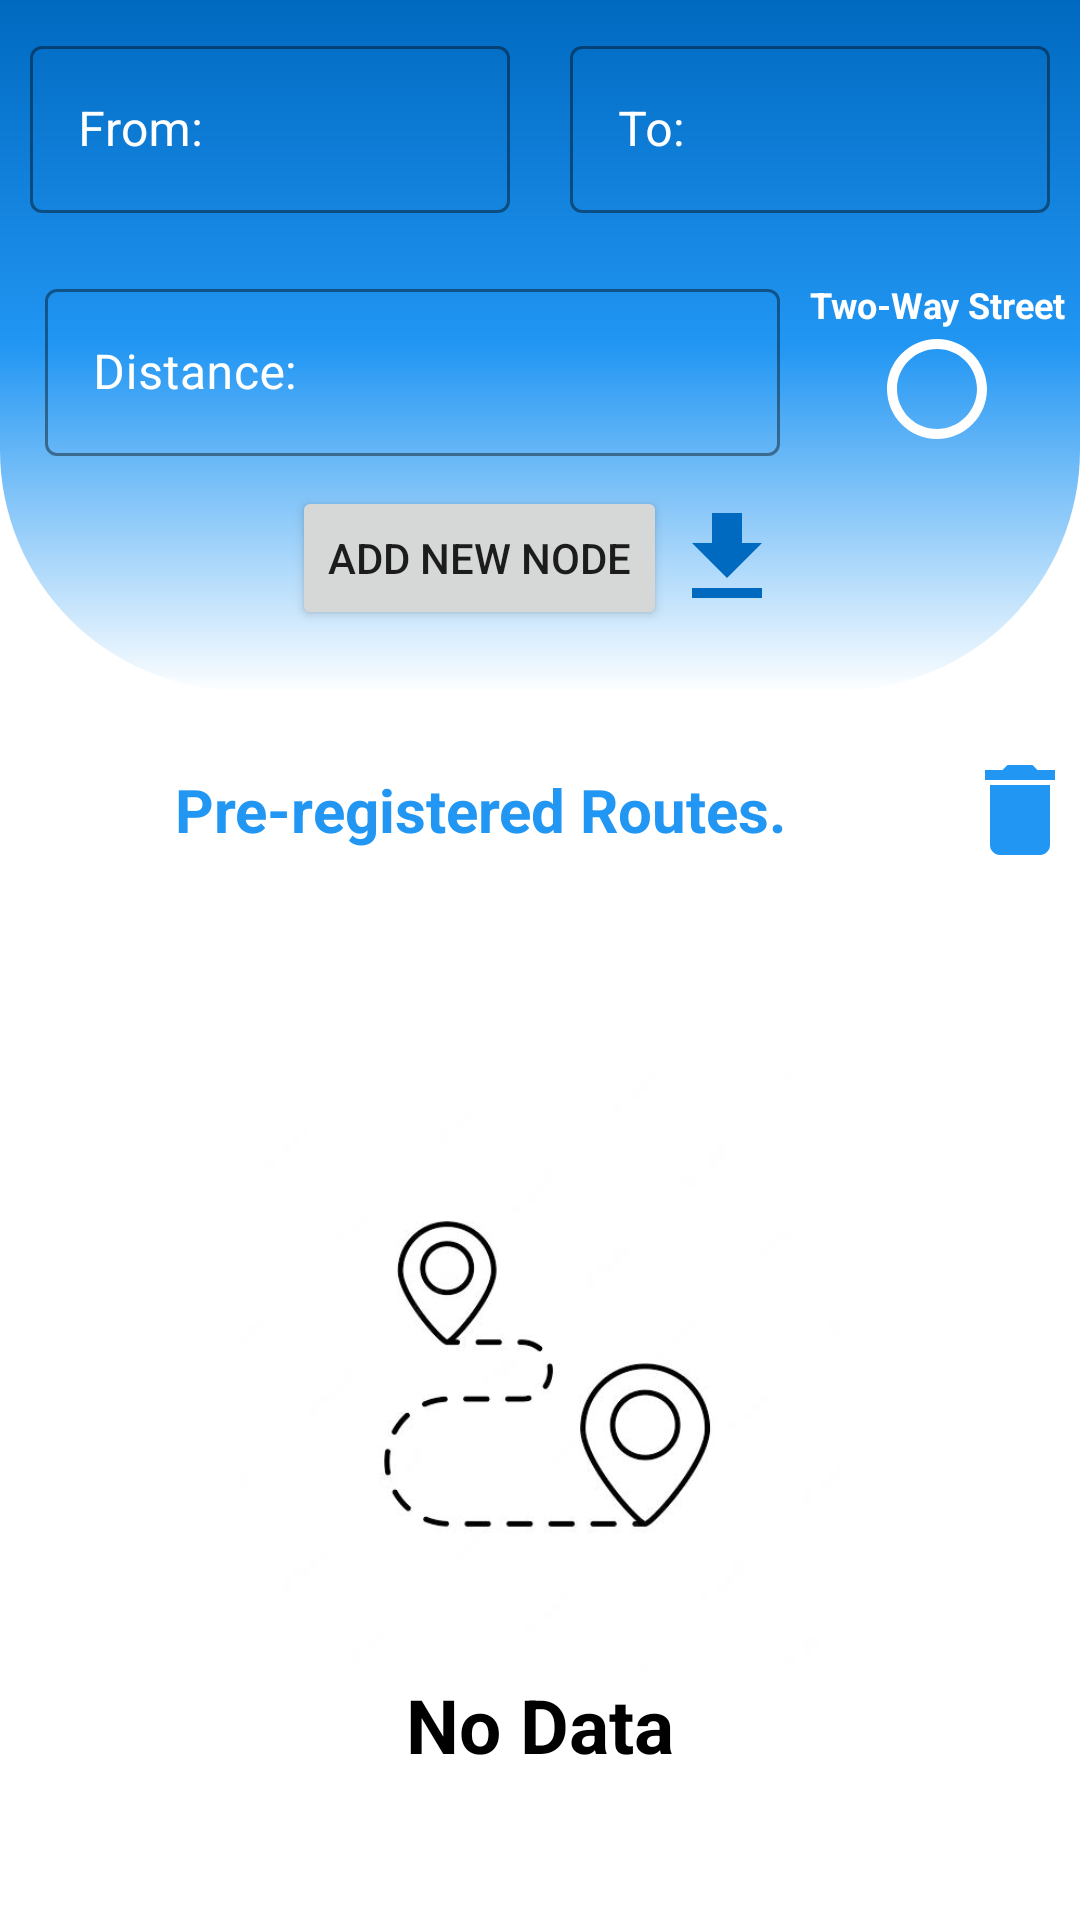

Screen size 1080px×1920px. Icon name, then its center in pixels as [x,y]:
delete: [1020,810]
file download: [727,558]
